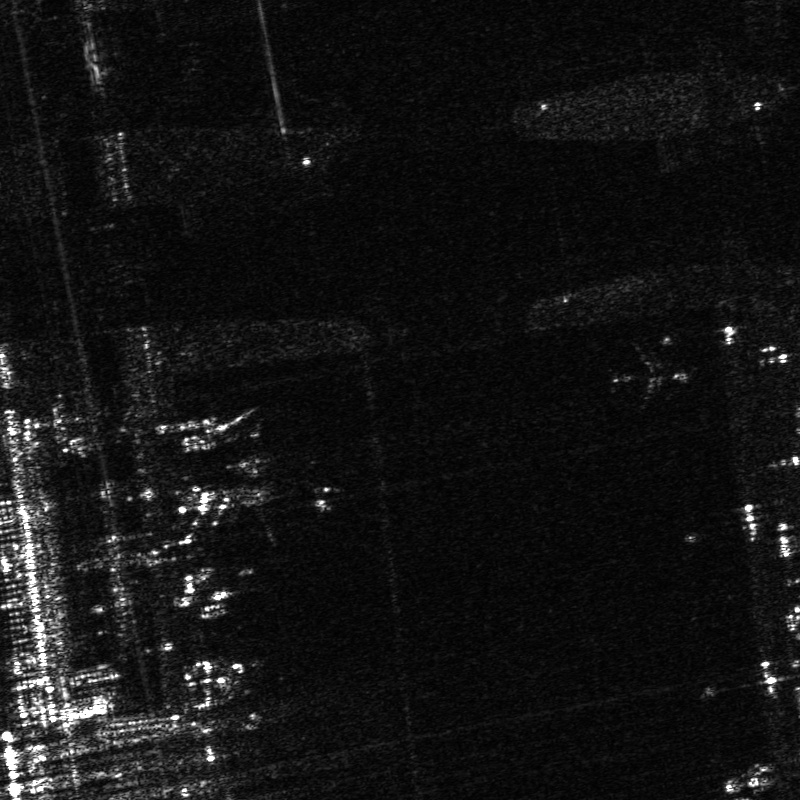Boeing737: (602, 342, 697, 418)
